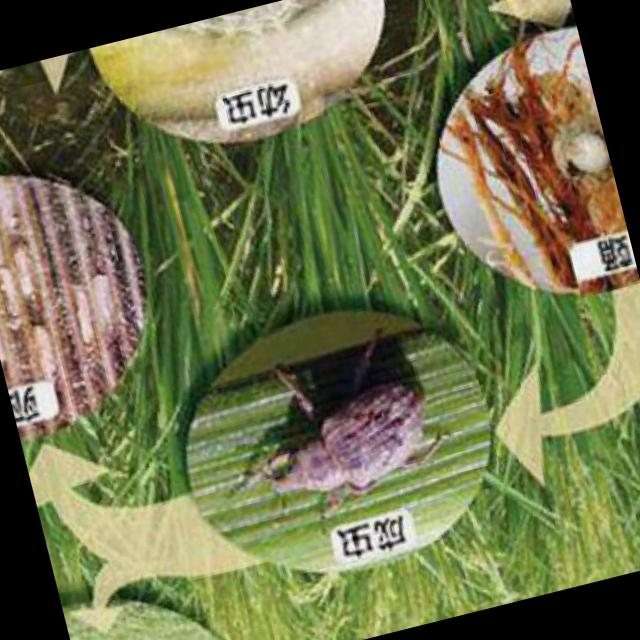rice-bug: (232, 343, 448, 528)
